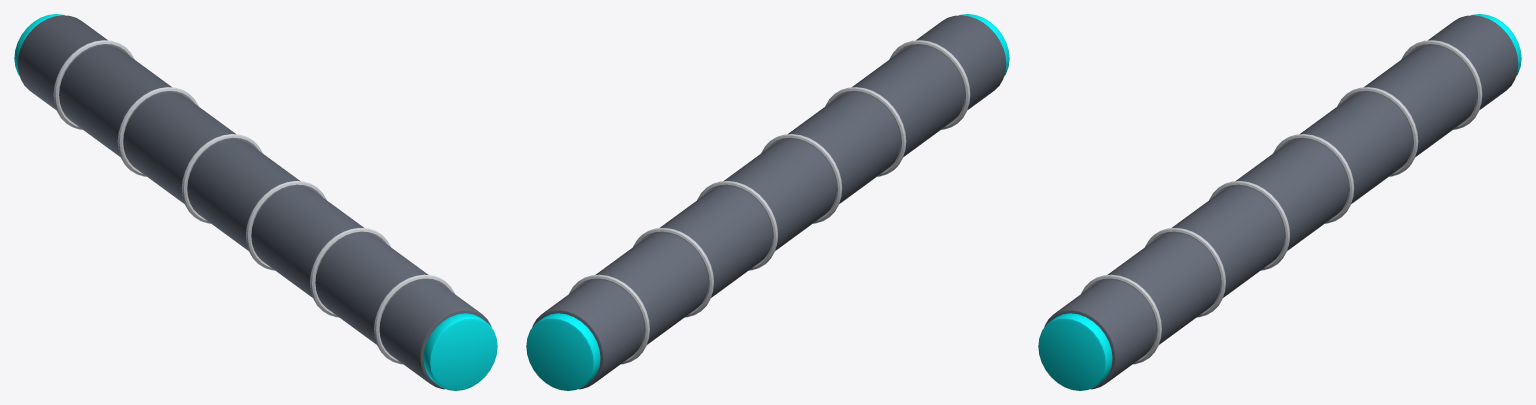
File: inductor_core.glb
The picture shows the model from 3 angles, left to right: view 1: azimuth 30°, elevation 25°; view 2: azimuth 150°, elevation 25°; view 3: azimuth 330°, elevation 25°; orthographic projection.
Visible parts, largest first — view 1: Cylinder; view 2: Cylinder; view 3: Cylinder.
Part boxes in pixels (bbox=[...]): Cylinder: bbox=[14, 14, 497, 390]; Cylinder: bbox=[526, 14, 1009, 390]; Cylinder: bbox=[1038, 14, 1521, 390].
Size of the model in its own units: 1.51 by 1.51 by 13.
